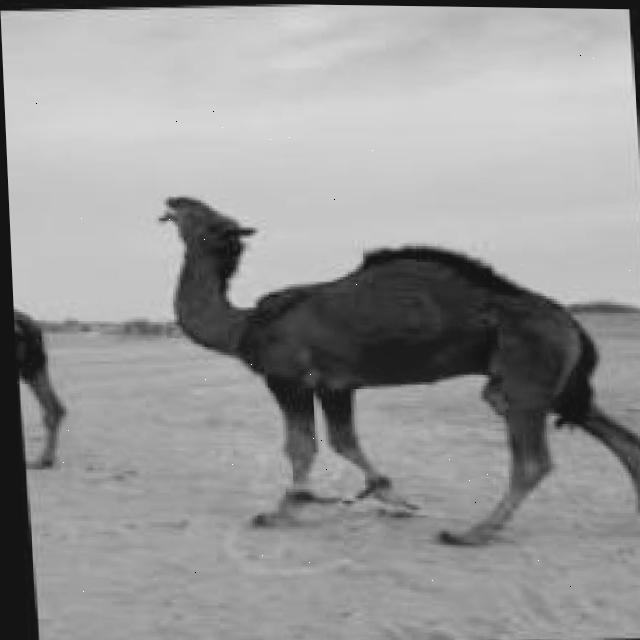Camel: (155, 192, 640, 551)
